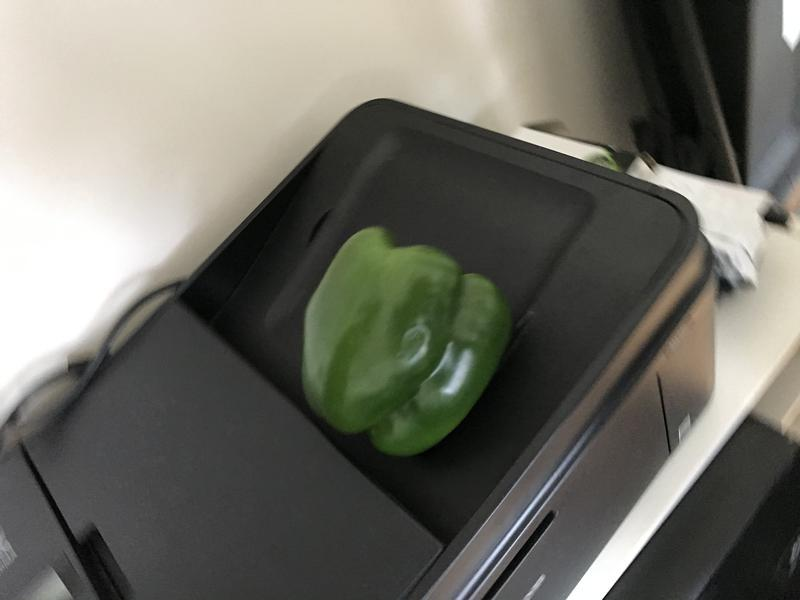green_pepper: (292, 212, 526, 484)
